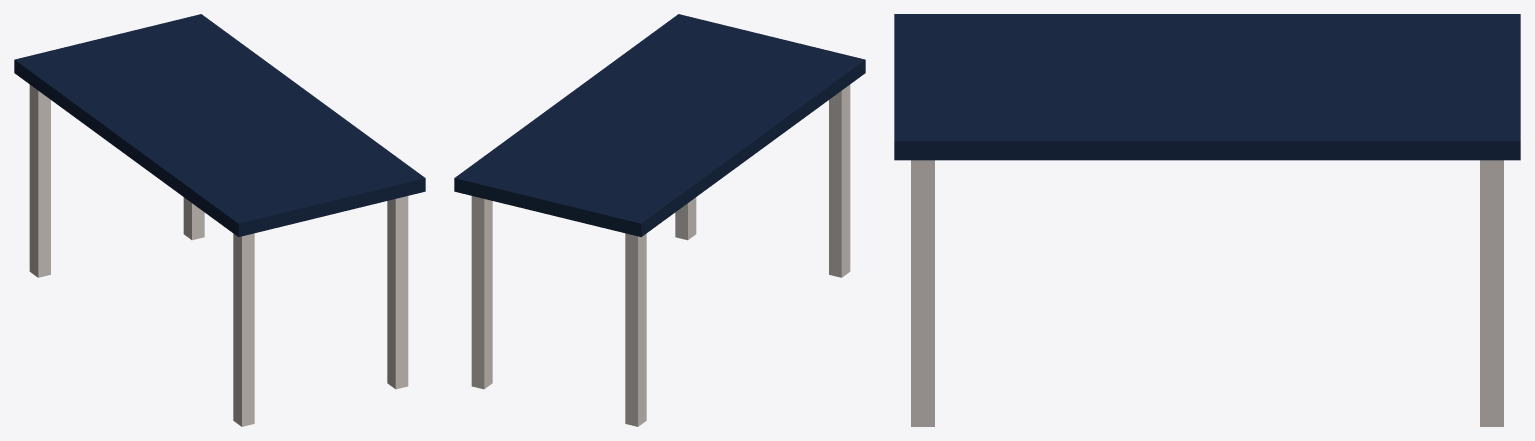
Rendered from mesa_prof 1.fbx.
The picture shows the model from 3 angles, left to right: view 1: azimuth 30°, elevation 25°; view 2: azimuth 150°, elevation 25°; view 3: azimuth 270°, elevation 25°; orthographic projection. The views are drawn at different scales.
Parts seen in each view (by area): view 1: Mesa_prof; view 2: Mesa_prof; view 3: Mesa_prof.
Part boxes in pixels (x1,y1,x2,y2): Mesa_prof: (14,14,425,426); Mesa_prof: (454,14,865,426); Mesa_prof: (894,14,1520,426).
Size of the model in its own units: 96.32 by 103 by 200.
